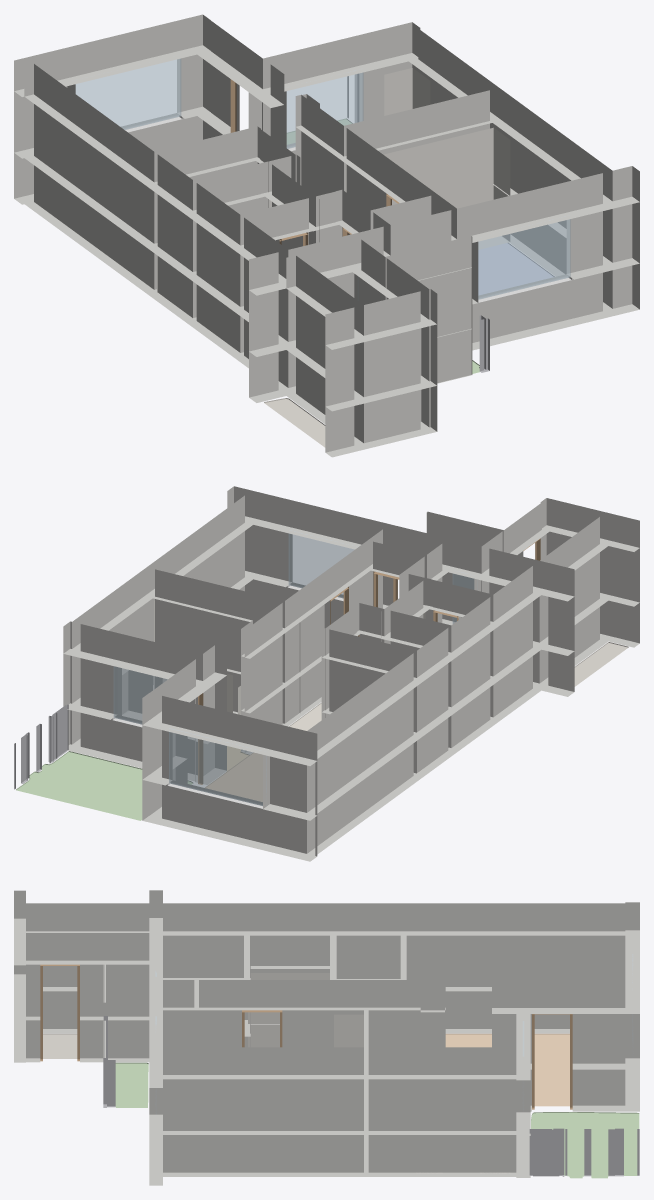
3 renders of one model, top to bottom at view 1: azimuth 30°, elevation 25°; view 2: azimuth 150°, elevation 25°; view 3: azimuth 270°, elevation 25°, orthographic. The views are drawn at different scales.
Visible parts, largest first — view 1: walls, furniture_1_closet, window_2, window_4, window_0, floor_4_Bed_Room, furniture_0_closet, floor_11_Storage, railings; view 2: walls, floor_9_Outdoor, window_4, window_2, window_0, railings, floor_0_Living_Room, furniture_4_appliance, floor_11_Storage; view 3: walls, floor_9_Outdoor, railings, floor_0_Living_Room, furniture_2_closet, floor_10_Outdoor, furniture_1_closet, floor_8_Storage, door_10, door_3.
Part boxes in pixels (x1,y1,x2,y2): walls: (14, 14, 639, 457); furniture_1_closet: (345, 127, 510, 249); window_2: (478, 216, 570, 299); window_4: (75, 58, 181, 129); window_0: (286, 70, 363, 148); floor_4_Bed_Room: (478, 243, 554, 295); furniture_0_closet: (384, 68, 430, 115); floor_11_Storage: (264, 398, 325, 447); railings: (347, 74, 489, 372); walls: (63, 486, 639, 861); floor_9_Outdoor: (16, 751, 192, 820); window_4: (169, 728, 266, 805); window_2: (288, 530, 356, 597); window_0: (113, 666, 167, 724); railings: (14, 704, 68, 789); floor_0_Living_Room: (205, 752, 262, 801); furniture_4_appliance: (122, 670, 152, 720); floor_11_Storage: (574, 642, 628, 686); walls: (14, 890, 639, 1185); floor_9_Outdoor: (531, 1112, 639, 1178); railings: (103, 1016, 639, 1176); floor_0_Living_Room: (445, 1033, 569, 1106); furniture_2_closet: (248, 973, 329, 1047); floor_10_Outdoor: (115, 1062, 148, 1107); furniture_1_closet: (334, 1014, 363, 1047); floor_8_Storage: (43, 1033, 77, 1058); door_10: (40, 964, 79, 1061); door_3: (532, 1014, 572, 1109).
Bounding box in the file's own units: 7.84 × 2.72 × 12.2.
